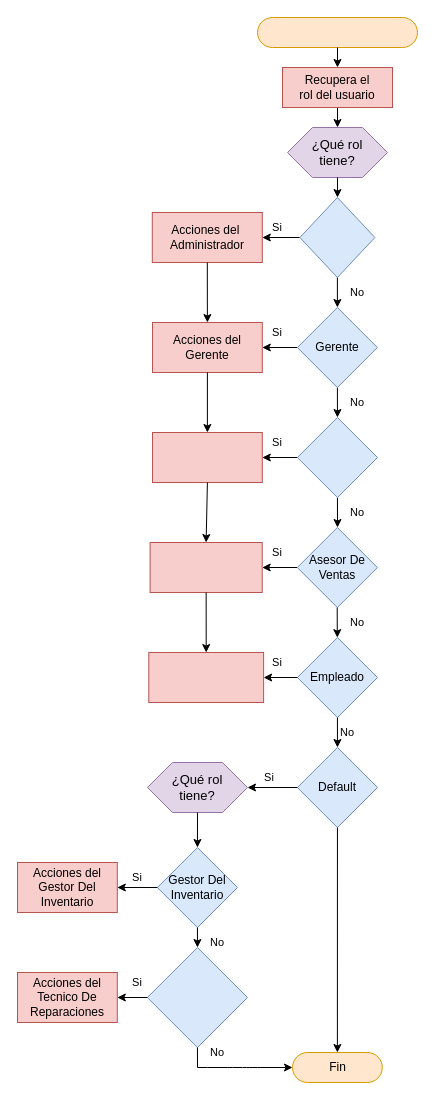
The diagram is 435 pixels wide and 1100 high, and some of its shapes have lost their labels. Here are the shapes that lost their labels. From the top down, the box of each, then its label:
(256, 16, 418, 48): Algoritmo PermisosUsuarios
(299, 196, 375, 278): Admin
(152, 432, 262, 482): Acciones del Ensamblador de PC's
(296, 416, 378, 498): Ensam blador
(149, 542, 262, 592): Acciones del Asesor de Ventas
(148, 652, 264, 702): Acciones del Empleado
(146, 946, 248, 1048): Tecnico De Reparaciones
